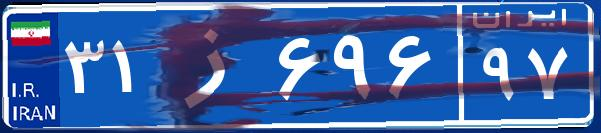1: (110, 28, 158, 105)
3: (57, 26, 110, 107)
6: (385, 28, 445, 110), (273, 28, 330, 110)
7: (525, 38, 570, 115)
9: (330, 28, 385, 110), (475, 38, 525, 113)
ز: (158, 15, 273, 115)
